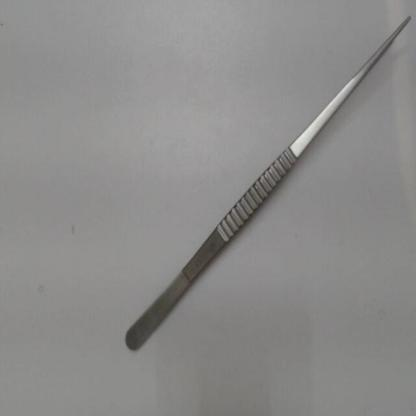DeBakey Dissector: (115, 7, 416, 364)
